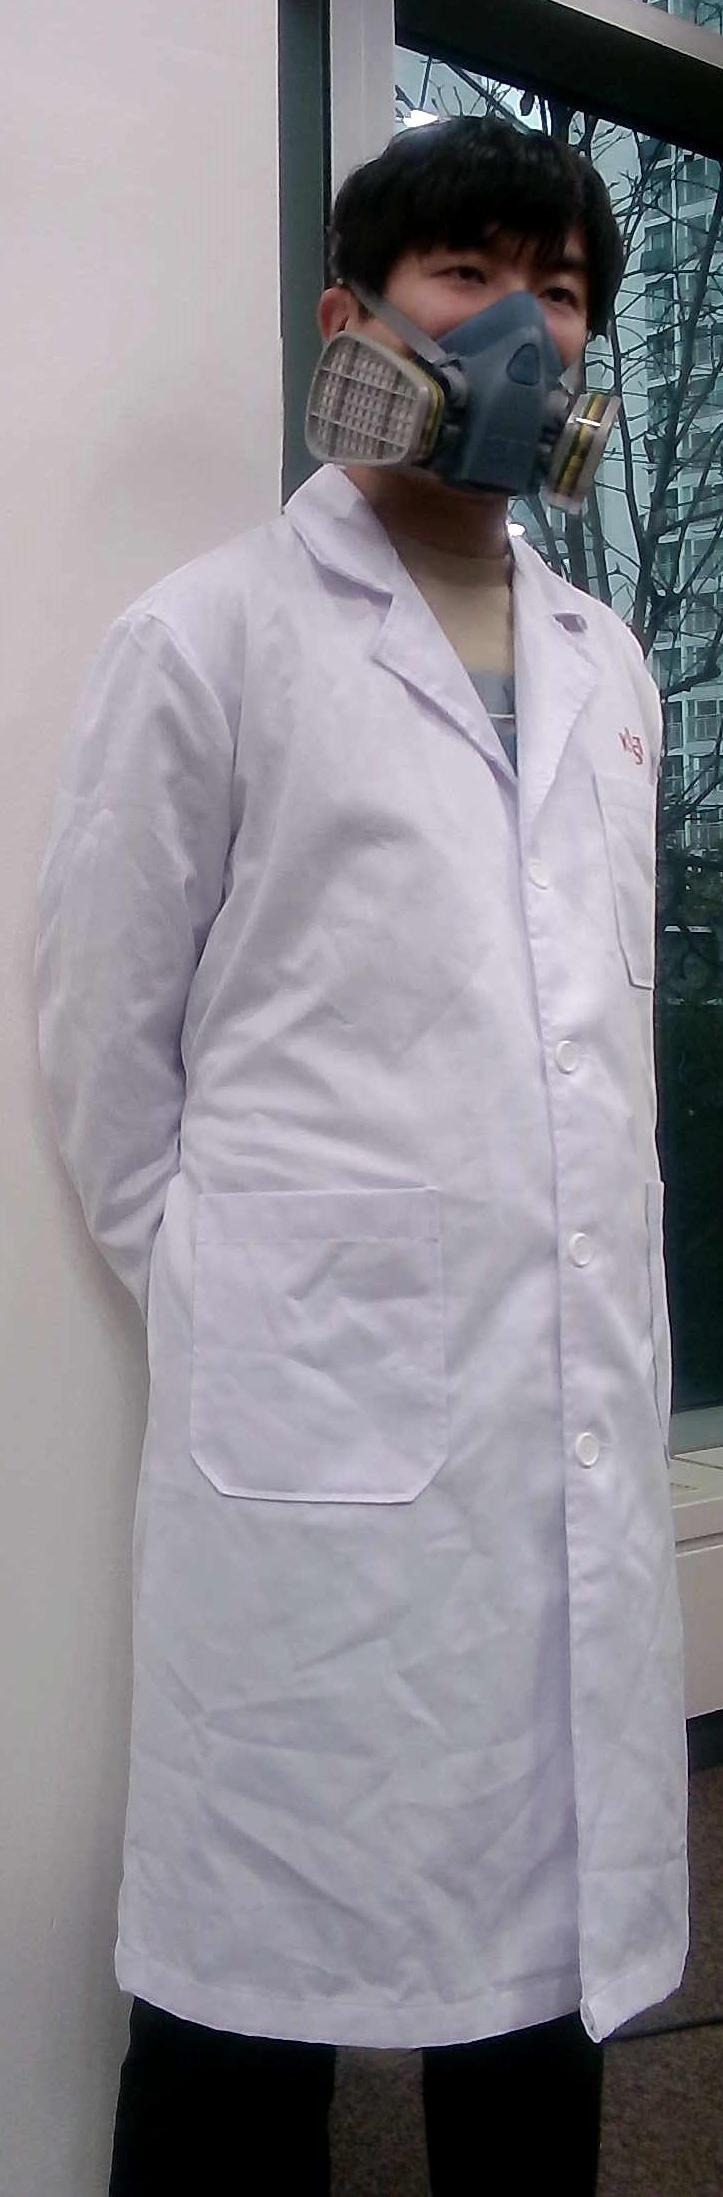lab_coat: (101, 591, 702, 2005)
